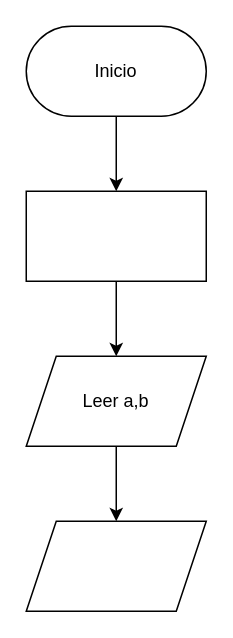
The diagram is 233 pixels wide and 638 high, and some of its shapes have lost their labels. Each missing label, with the box of its shape:
Definir a = 0 b = 0: (25, 190, 206, 281)
Imprime a + b: (25, 520, 206, 611)
